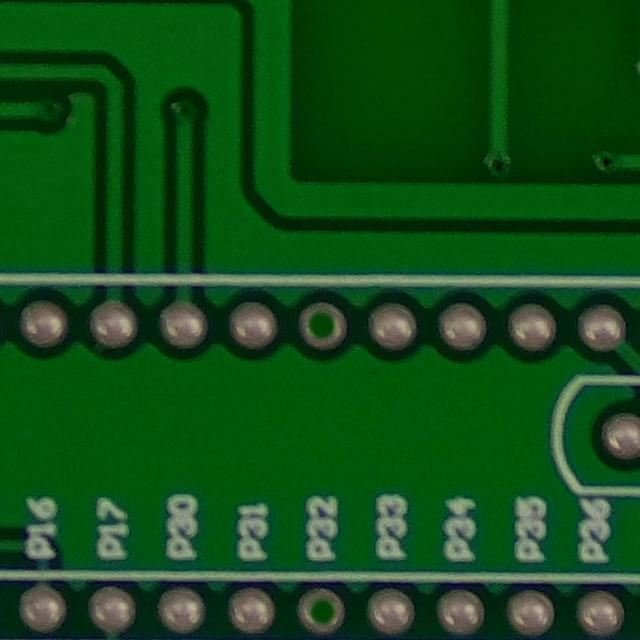missing_hole: (291, 287, 349, 353)
